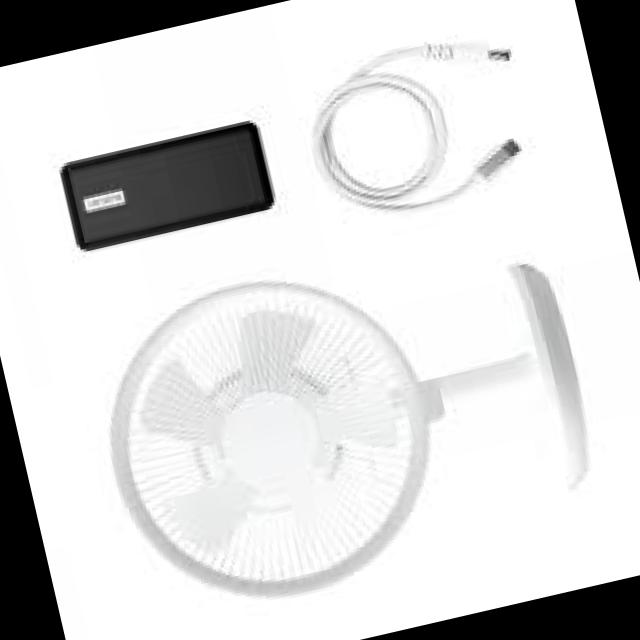portable-charger: (52, 112, 280, 258)
